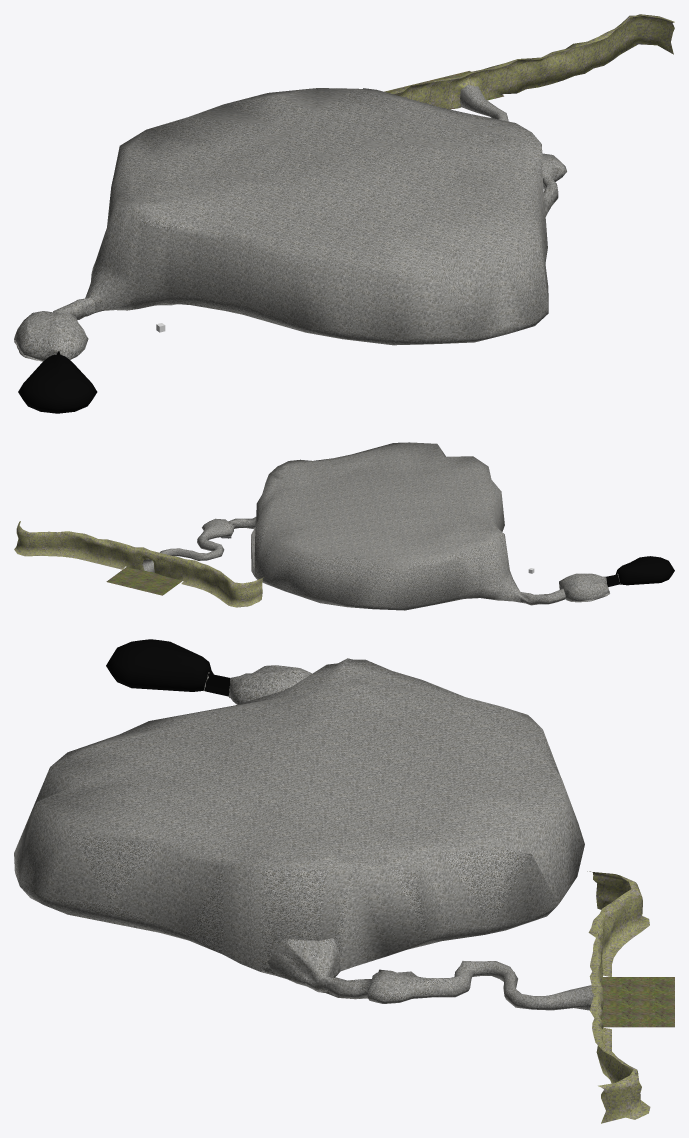
File: Greybox 07.FBX
3 views of the same model, one above another, from view 1: azimuth 30°, elevation 25°; view 2: azimuth 150°, elevation 25°; view 3: azimuth 270°, elevation 25° (orthographic). The views are drawn at different scales.
Parts seen in each view (by area): view 1: Cylinder001, cliff face, Void room, Second room cave, Big cave exit room, cave exit tunnel; view 2: Cylinder001, cliff face, Void room, Plane001, Second room cave, cave exit tunnel, Big cave exit room, Tunnel 01; view 3: Cylinder001, cliff face, Big cave exit room, Void room, Plane001, cave exit tunnel, Second room cave.
Part boxes in pixels (bbox=[...]): Cylinder001: bbox=[85, 88, 548, 345]; cliff face: bbox=[388, 14, 674, 108]; Void room: bbox=[18, 351, 97, 413]; Second room cave: bbox=[14, 311, 88, 361]; Big cave exit room: bbox=[542, 153, 566, 216]; cave exit tunnel: bbox=[460, 84, 508, 121]; Cylinder001: bbox=[251, 442, 520, 610]; cliff face: bbox=[14, 521, 263, 607]; Void room: bbox=[606, 556, 674, 586]; Plane001: bbox=[106, 567, 182, 595]; Second room cave: bbox=[559, 573, 609, 601]; cave exit tunnel: bbox=[142, 531, 224, 572]; Big cave exit room: bbox=[202, 517, 255, 539]; Tunnel 01: bbox=[520, 588, 565, 605]; Cylinder001: bbox=[14, 658, 584, 971]; cliff face: bbox=[587, 871, 650, 1123]; Big cave exit room: bbox=[267, 938, 433, 1003]; Void room: bbox=[106, 639, 229, 696]; Plane001: bbox=[601, 977, 674, 1027]; cave exit tunnel: bbox=[433, 961, 593, 1010]; Second room cave: bbox=[228, 665, 311, 704].
Bounding box in the file's own units: 268198 × 32363 × 159609.
